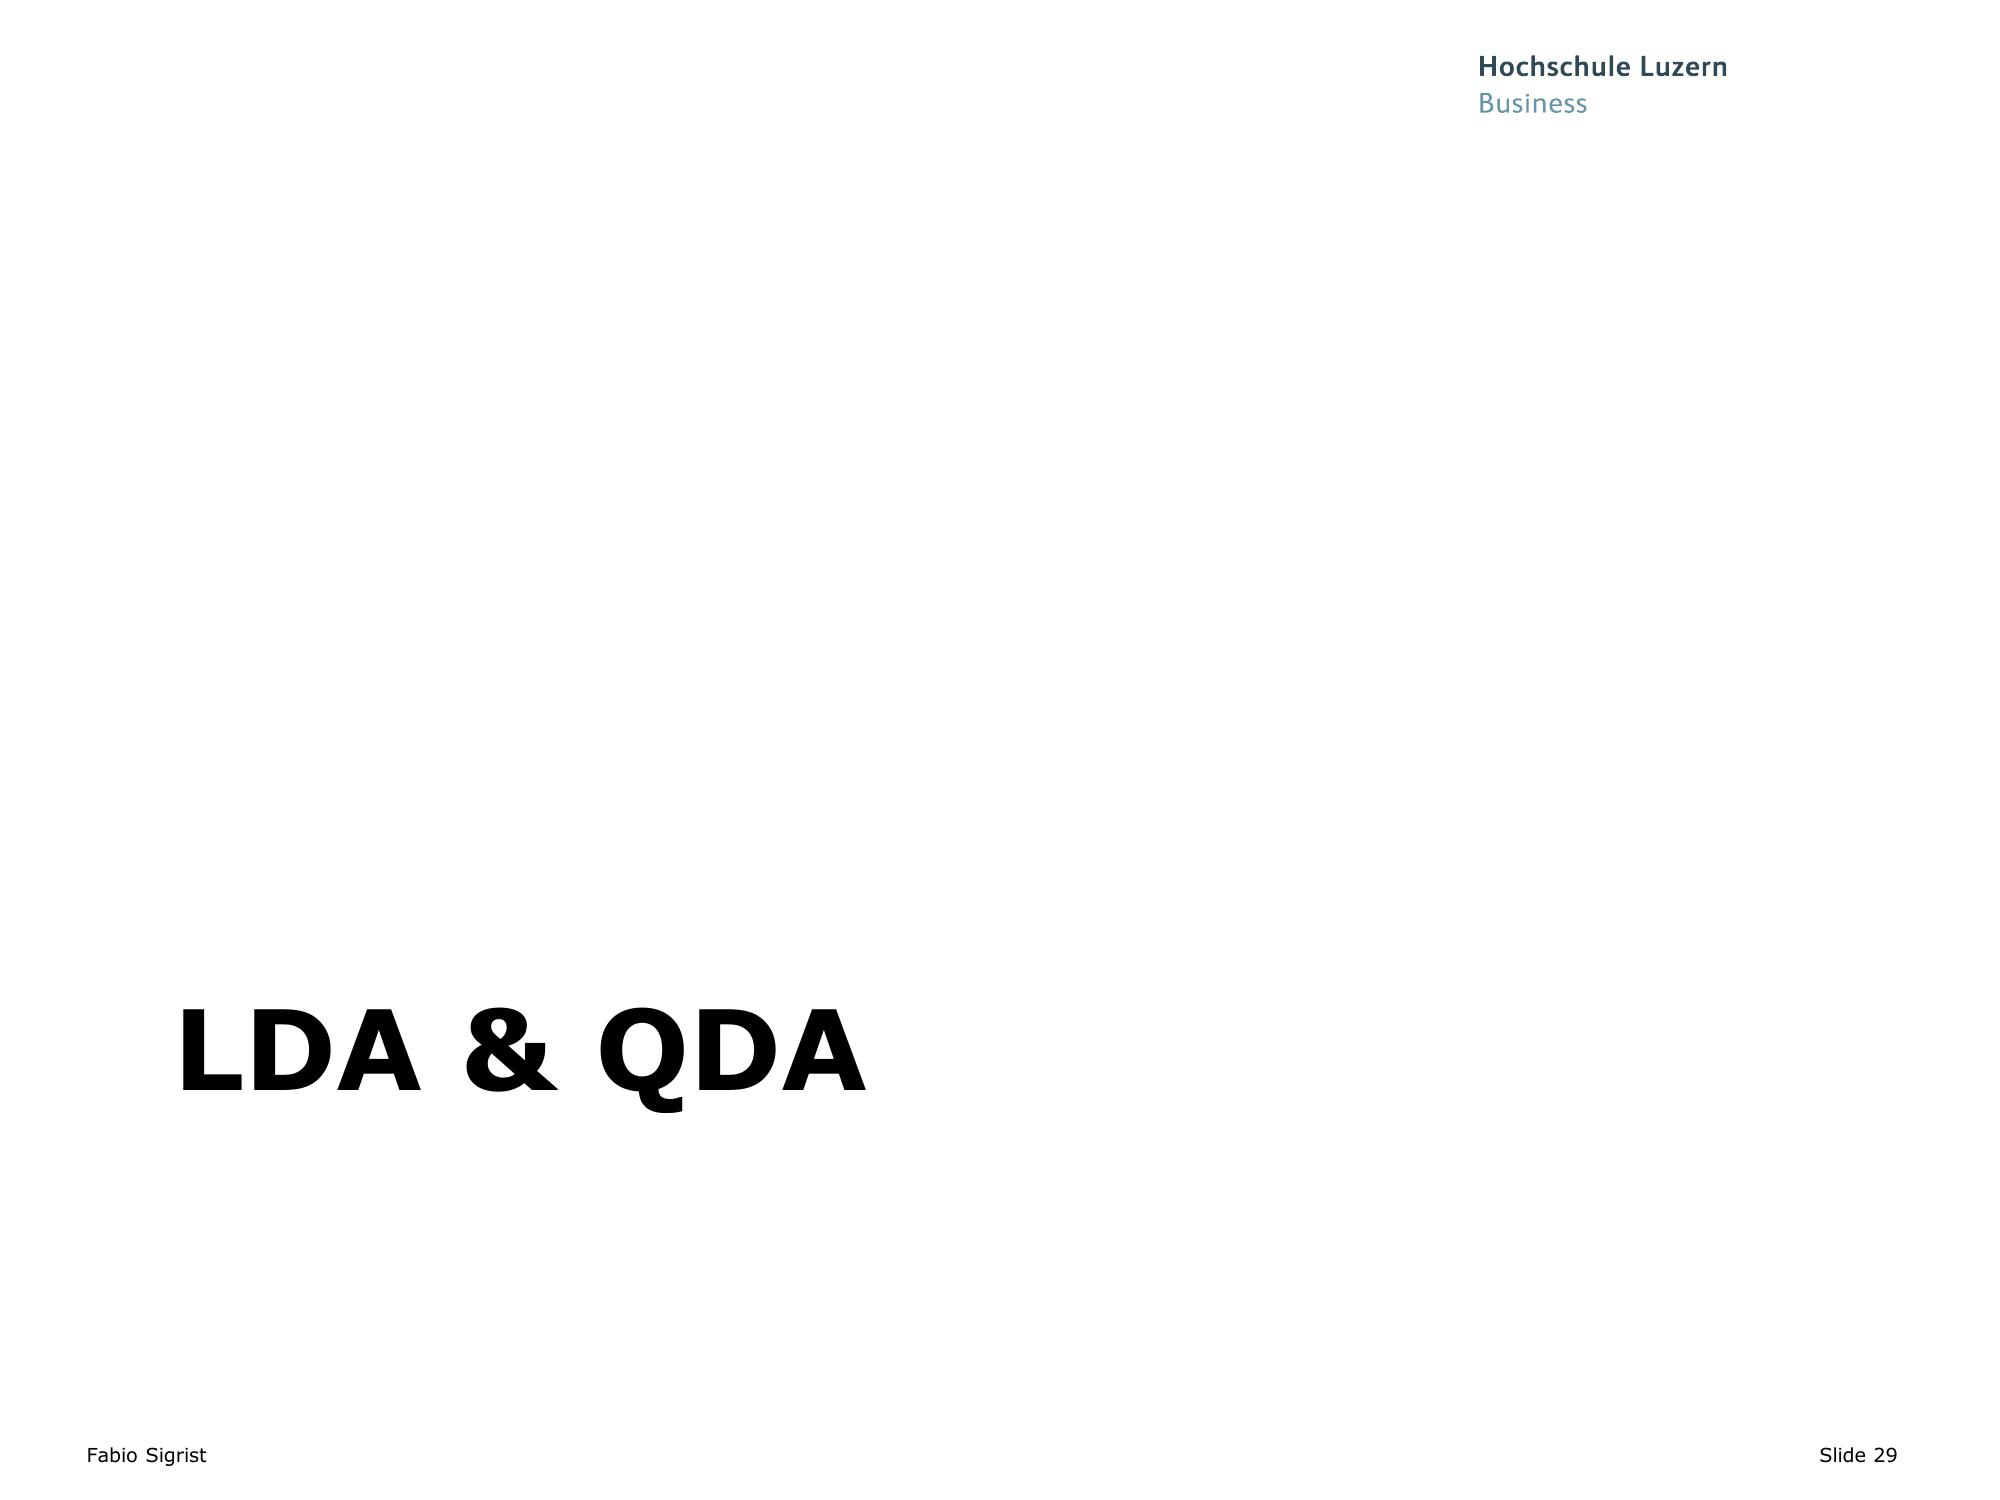Title: (150, 975, 907, 1131)
